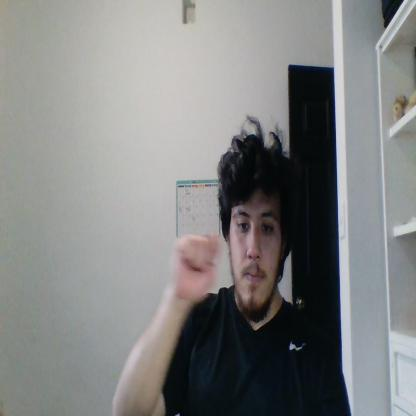T: (168, 233, 221, 297)
